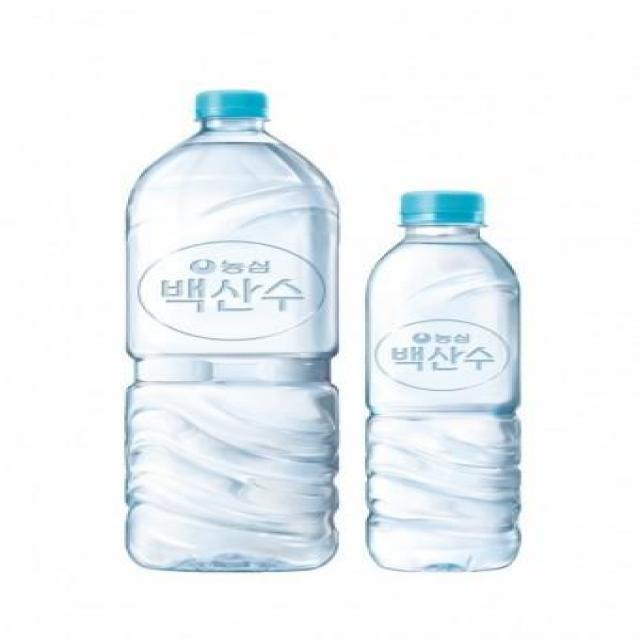bottle: (96, 68, 362, 594), (350, 177, 548, 587)
